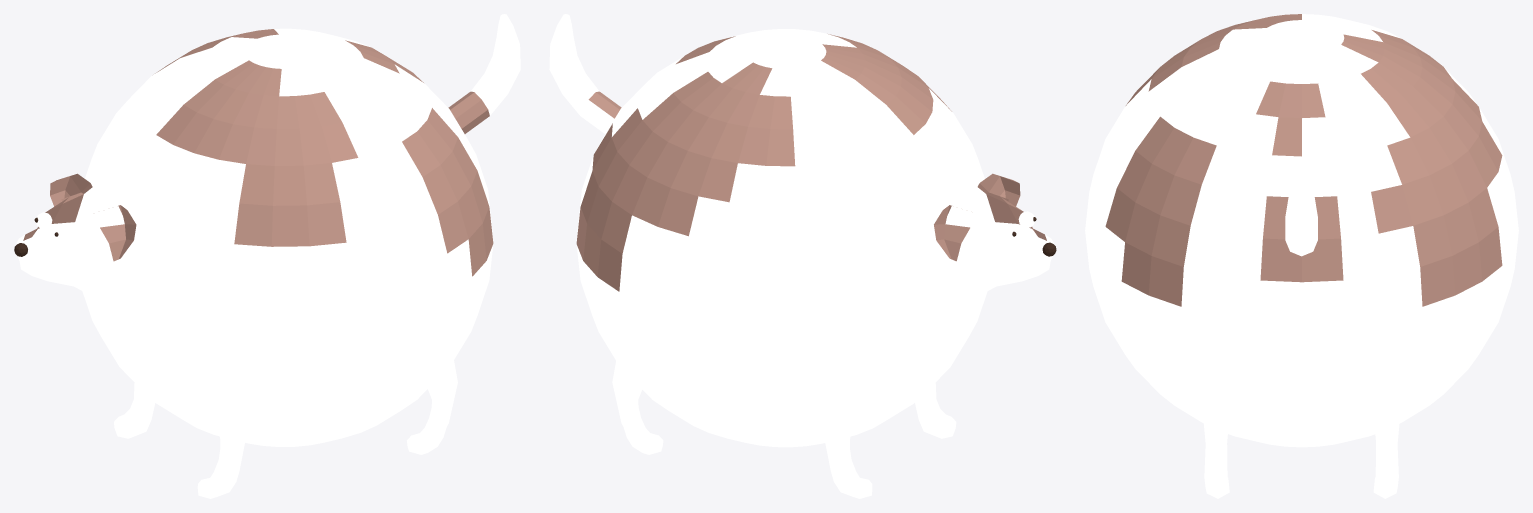
The model's file is dog.glb.
3 views of the same model, side by side, from view 1: azimuth 30°, elevation 25°; view 2: azimuth 150°, elevation 25°; view 3: azimuth 270°, elevation 25° (orthographic). The views are drawn at different scales.
Parts seen in each view (by area): view 1: body, head, tail, frontLegs, backLegs; view 2: body, head, tail, frontLegs, backLegs; view 3: body, backLegs, tail.
Part boxes in pixels (x1,y1,x2,y2): body: (82,28,493,446); head: (16,173,136,302); tail: (448,14,520,133); frontLegs: (114,383,245,498); backLegs: (407,360,457,454); body: (576,29,987,447); head: (934,173,1053,302); tail: (549,14,621,133); frontLegs: (824,383,956,498); backLegs: (612,361,663,454); body: (1085,14,1518,447); backLegs: (1202,407,1400,498); tail: (1285,165,1317,256).
Bounding box in the file's own units: 176 × 134 × 127.
